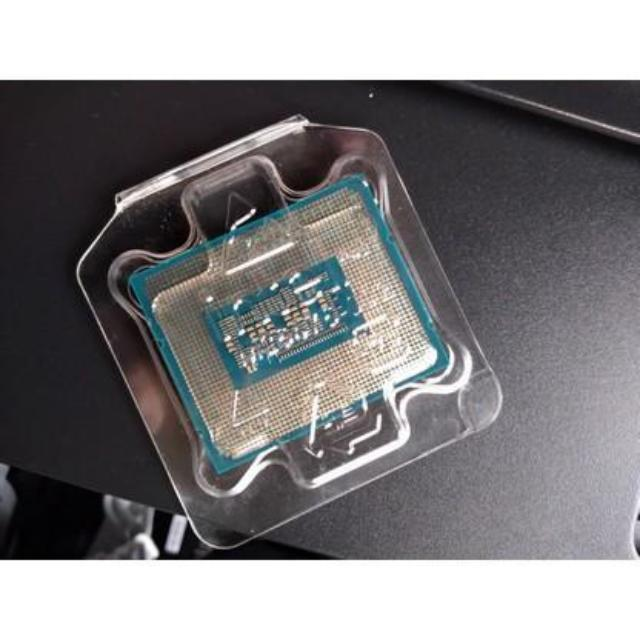CPU: (123, 179, 452, 461)
